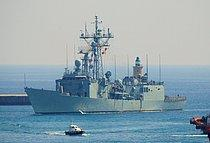MIL_Ship: (23, 20, 187, 115)
